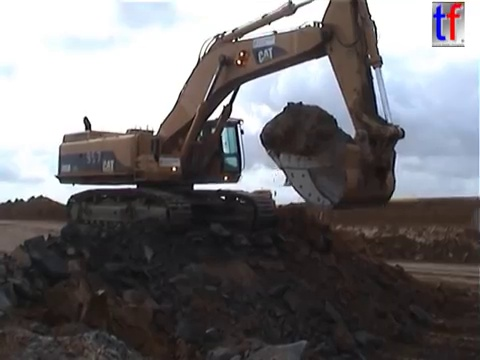excavator: (51, 1, 409, 240)
